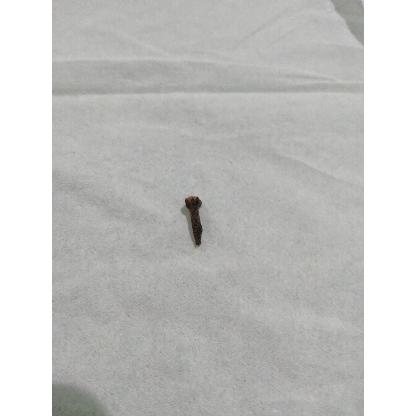sedang: (184, 196, 203, 247)
